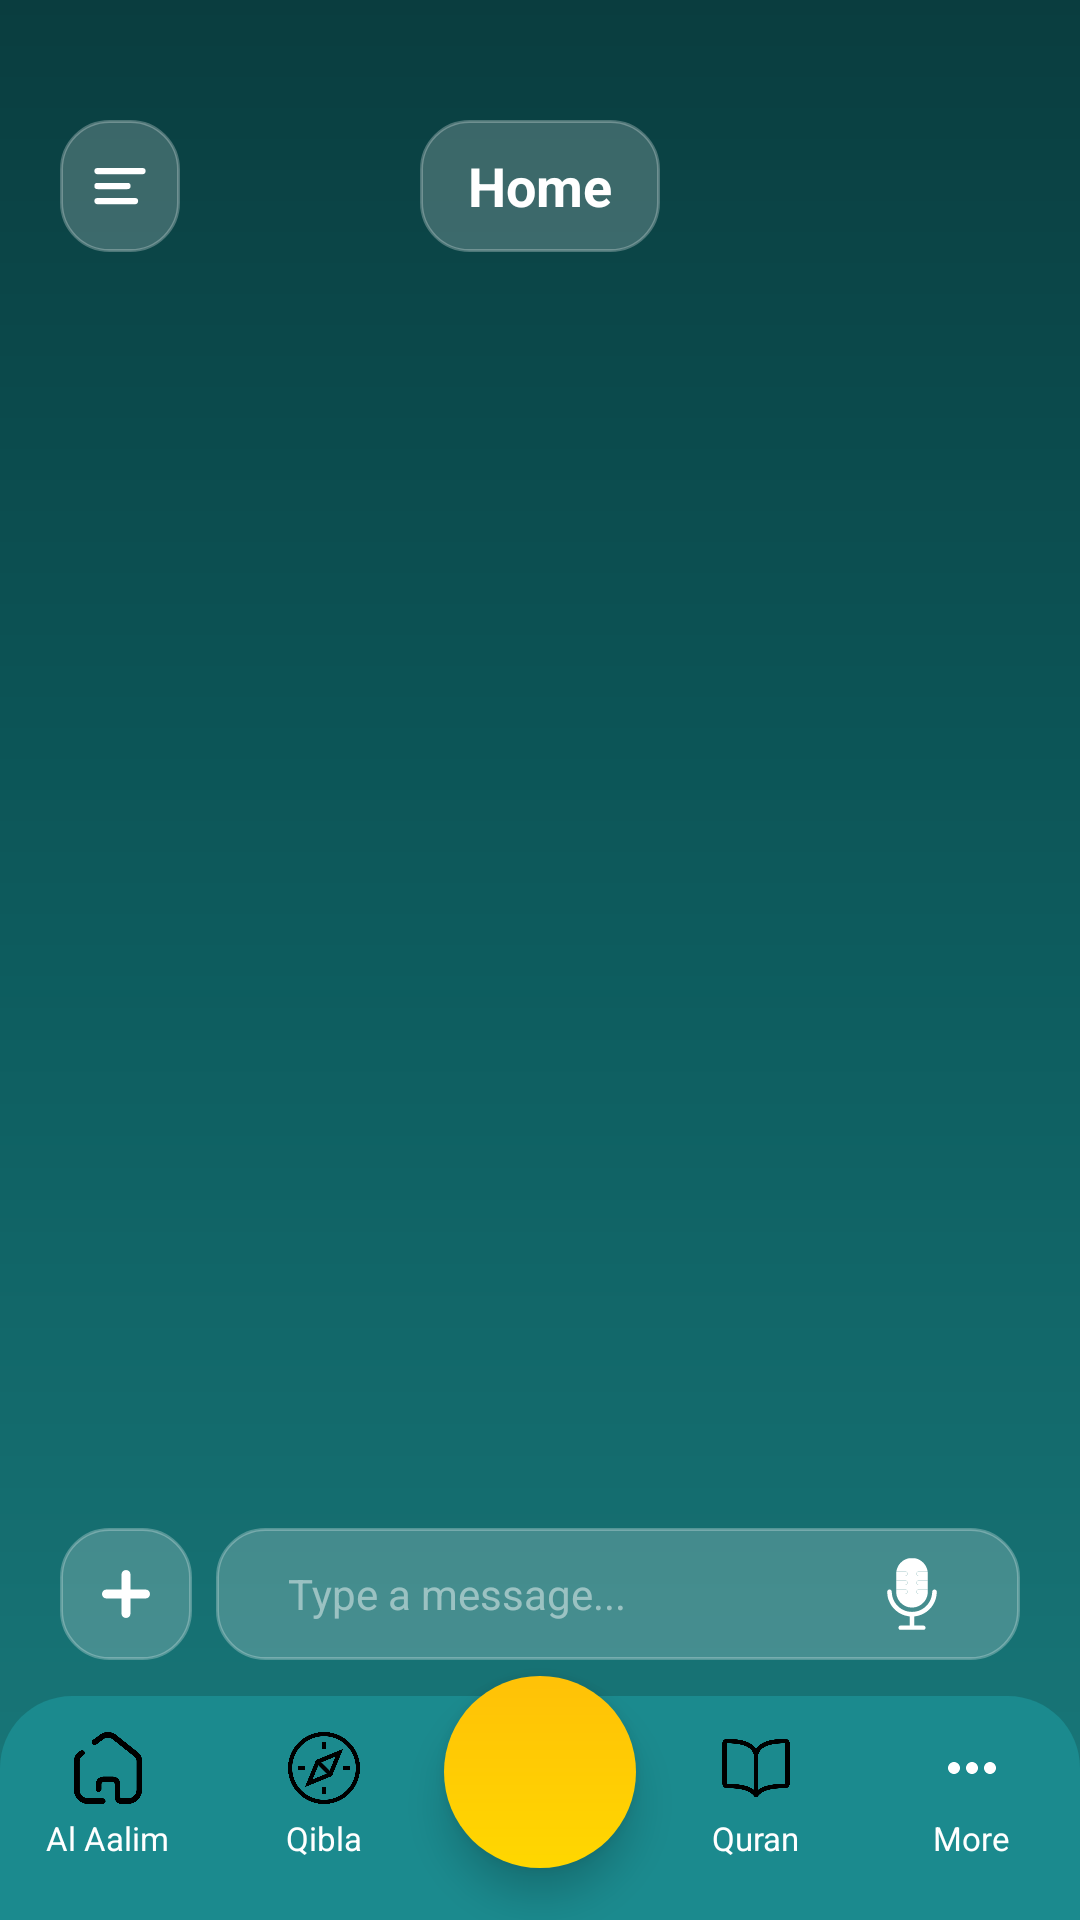

Icon bounding boxes for this 1080x1920 phone screenshot, format (x1, y1, x2, y2):
Add: (60, 1528, 192, 1660)
Book: (722, 1739, 790, 1797)
Compass: (288, 1732, 360, 1804)
Home: (74, 1732, 142, 1804)
Menu: (60, 120, 180, 252)
Microphone: (887, 1558, 937, 1630)
